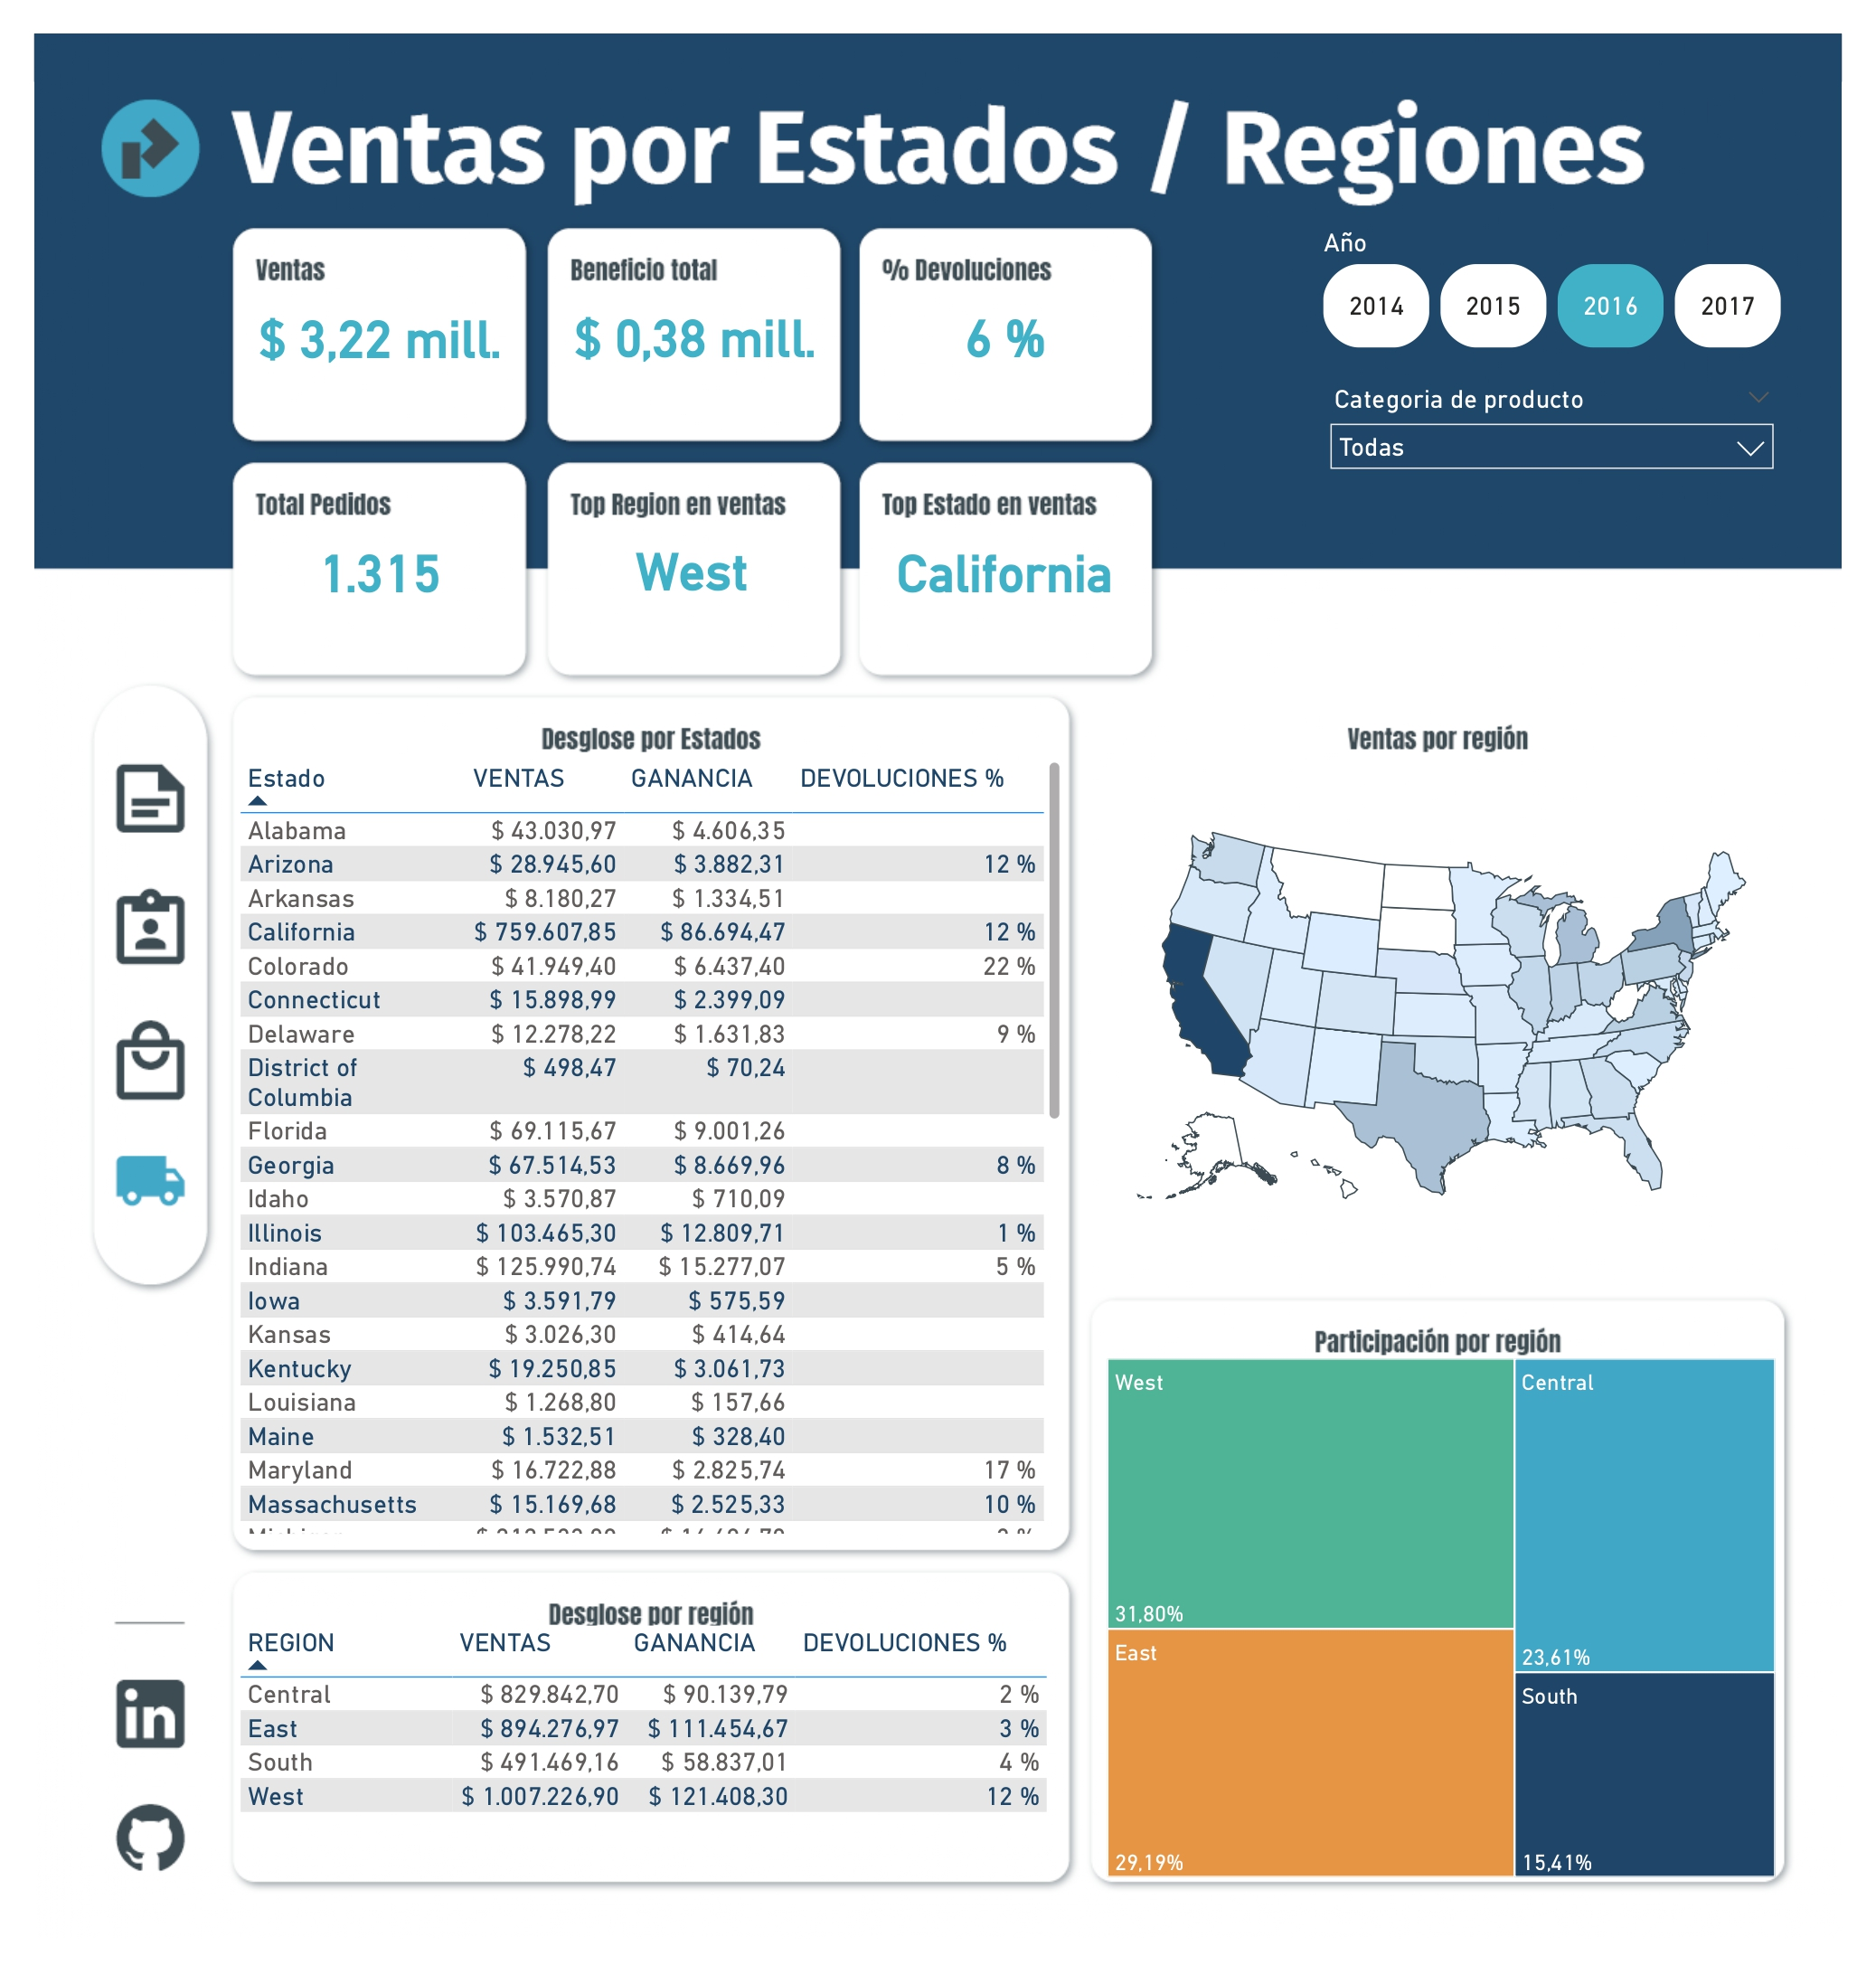

This screenshot's page, from the dashboard's own definition file:
{"tool":"powerbi","page":{"name":"Regiones","canvas":[1280,1350],"ordinal":4},"visuals":[{"type":"actionButton","box":[53.3,510,58.9,62.2],"z":0},{"type":"actionButton","box":[53.3,604.4,58.9,62.2],"z":1000},{"type":"actionButton","box":[53.3,695.6,58.9,62.2],"z":2000},{"type":"actionButton","box":[53.3,778.9,58.9,62.2],"z":3000},{"type":"advancedSlicerVisual","fields":{"Values":["dimCalendario.Año"]},"box":[908.3,136.7,333.3,90],"z":4000},{"type":"slicer","fields":{"Values":["dimProducto.Category"]},"box":[908.3,243.3,333.3,90],"z":5000},{"type":"card","fields":{"Values":["Medidas.VENTAS"]},"box":[140,136.7,208.9,152.2],"z":6000},{"type":"card","fields":{"Values":["Medidas.GANANCIA"]},"box":[363.3,136.7,208.3,151.7],"z":7000},{"type":"card","fields":{"Values":["Medidas.DEVOLUCIONES %"]},"box":[583.3,136.7,208.3,151.7],"z":8000},{"type":"card","fields":{"Values":["Medidas.TOP ESTADO MAS VENDIDO"]},"box":[583.3,303.3,208.9,151.1],"z":9000},{"type":"card","fields":{"Values":["Medidas.TRANSACCIONES"]},"box":[140,303.3,210,151.1],"z":10000},{"type":"shapeMap","fields":{"Category":["dimRegion.State"],"Value":["Medidas.VENTAS"]},"box":[752.9,510,488.6,370],"z":11000},{"type":"treemap","fields":{"Group":["dimRegion.Region"],"Values":["Medidas.GANANCIA"]},"box":[760,938.3,473.3,366.7],"z":12000},{"type":"card","fields":{"Values":["Medidas.TOP REGION MAS VENDIDA"]},"box":[361.7,301.7,208.3,151.7],"z":13000},{"type":"tableEx","fields":{"Values":["dimRegion.State","Medidas.VENTAS","Medidas.GANANCIA","Medidas.DEVOLUCIONES %"]},"box":[140,510,591.7,556.7],"z":14000},{"type":"tableEx","fields":{"Values":["dimRegion.Region","Medidas.VENTAS","Medidas.GANANCIA","Medidas.DEVOLUCIONES %"]},"box":[140,1121.7,591.7,183.3],"z":15000}]}

Visuals, with their boxes in screenshot pixels (x1, y1, x2, y2), scaled from the page's 1280x1350 canvas onto the 1876x1975 screenshot:
actionButton: [78, 746, 165, 837]
actionButton: [78, 884, 165, 975]
actionButton: [78, 1017, 165, 1109]
actionButton: [78, 1139, 165, 1231]
advancedSlicerVisual - dimCalendario.Año: [1331, 200, 1820, 332]
slicer - dimProducto.Category: [1331, 356, 1820, 487]
card - Medidas.VENTAS: [205, 200, 512, 422]
card - Medidas.GANANCIA: [533, 200, 838, 422]
card - Medidas.DEVOLUCIONES %: [855, 200, 1160, 422]
card - Medidas.TOP ESTADO MAS VENDIDO: [855, 444, 1161, 665]
card - Medidas.TRANSACCIONES: [205, 444, 513, 665]
shapeMap - dimRegion.State x Medidas.VENTAS: [1104, 746, 1820, 1288]
treemap - dimRegion.Region x Medidas.GANANCIA: [1114, 1373, 1807, 1909]
card - Medidas.TOP REGION MAS VENDIDA: [530, 441, 835, 664]
tableEx - dimRegion.State x Medidas.VENTAS: [205, 746, 1072, 1561]
tableEx - dimRegion.Region x Medidas.VENTAS: [205, 1641, 1072, 1909]
